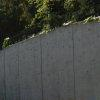Tree: (4, 0, 100, 43)
